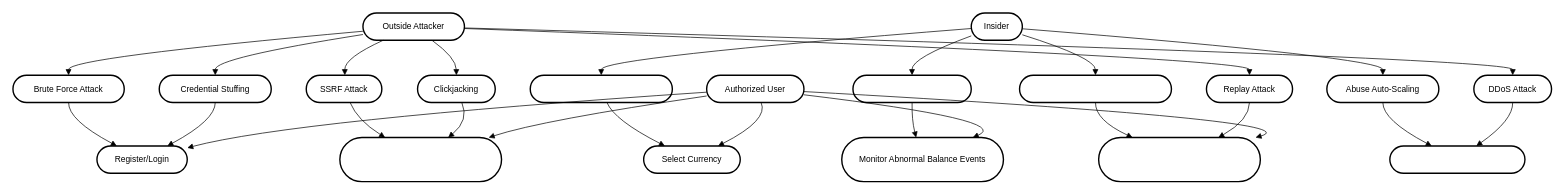
This 1564x194 diagram has some shape labels left out. Here are the shapes that lost their labels. From the top down, the centre of each, then its label:
At [601,88]: "Modify Currency Settings".
At [912,88]: "Bypass Risk Controls".
At [1095,88]: "Fake Transaction Signature".
At [420,159]: "Launch third-party platforms".
At [1179,159]: "Generate Transaction Signature".
At [1457,159]: "Trigger Scaling Decision".
